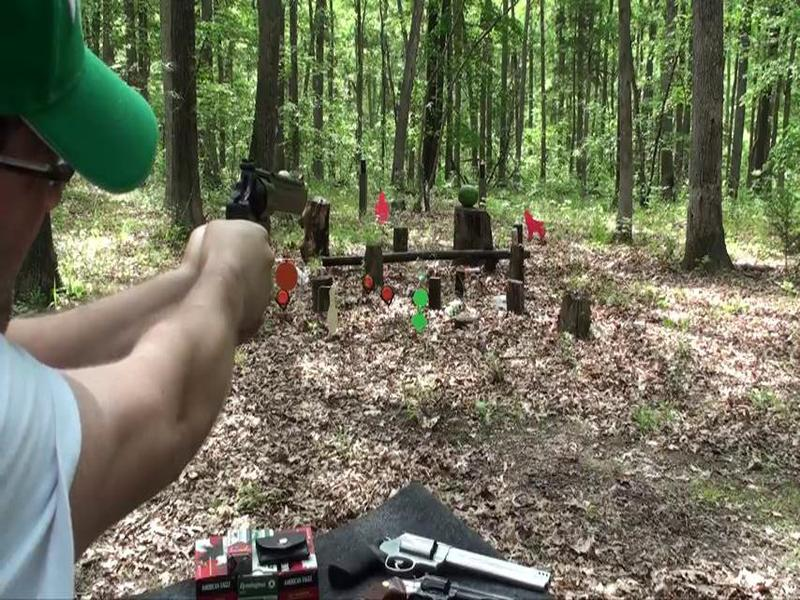Revolver: (209, 130, 324, 263)
